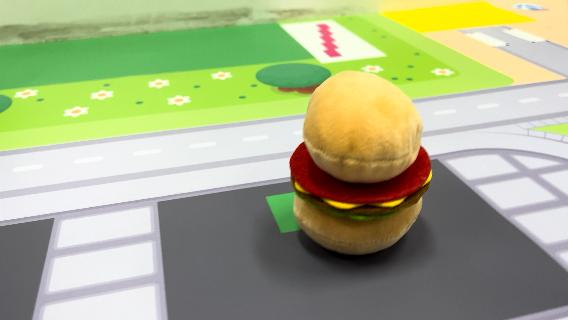burger: (285, 68, 437, 258)
